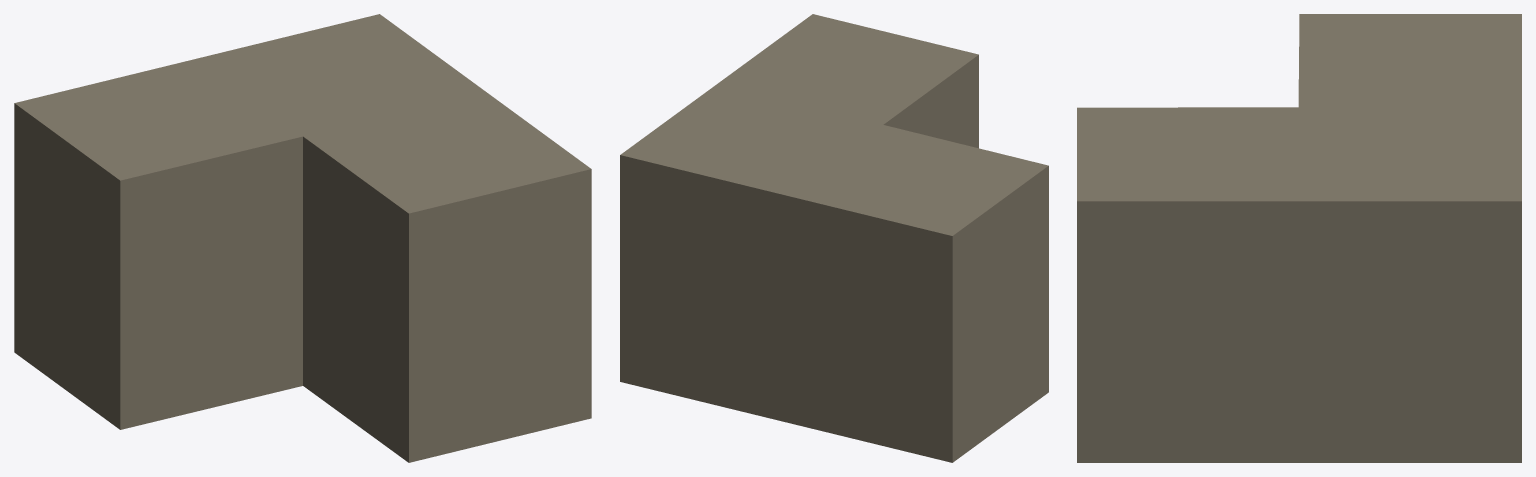
3 views of the same model, side by side, from view 1: azimuth 30°, elevation 25°; view 2: azimuth 150°, elevation 25°; view 3: azimuth 270°, elevation 25° (orthographic). The views are drawn at different scales.
Parts seen in each view (by area): view 1: Cube.028; view 2: Cube.028; view 3: Cube.028.
Boxes of the visible parts, x1,y1,x2,y2 form: Cube.028: [14, 14, 591, 462]; Cube.028: [620, 14, 1048, 462]; Cube.028: [1077, 14, 1521, 462].
Bounding box in the file's own units: 12.41 × 8.1 × 12.46.
